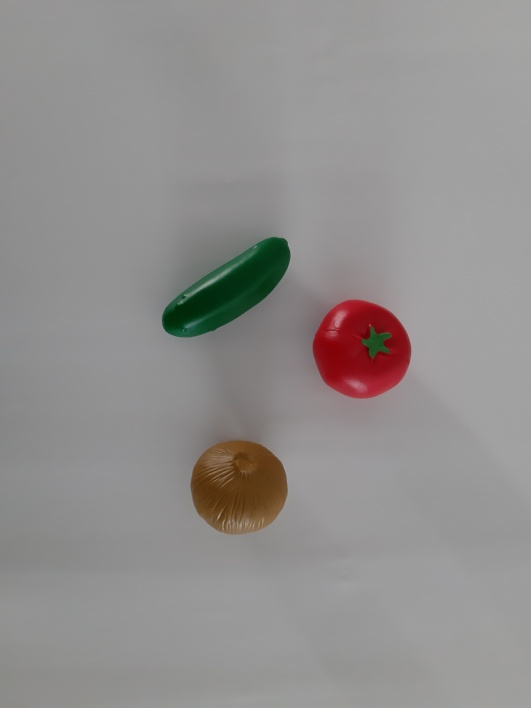cucumber: (150, 228, 302, 349)
onion: (175, 432, 300, 543)
tomato: (301, 288, 428, 409)
